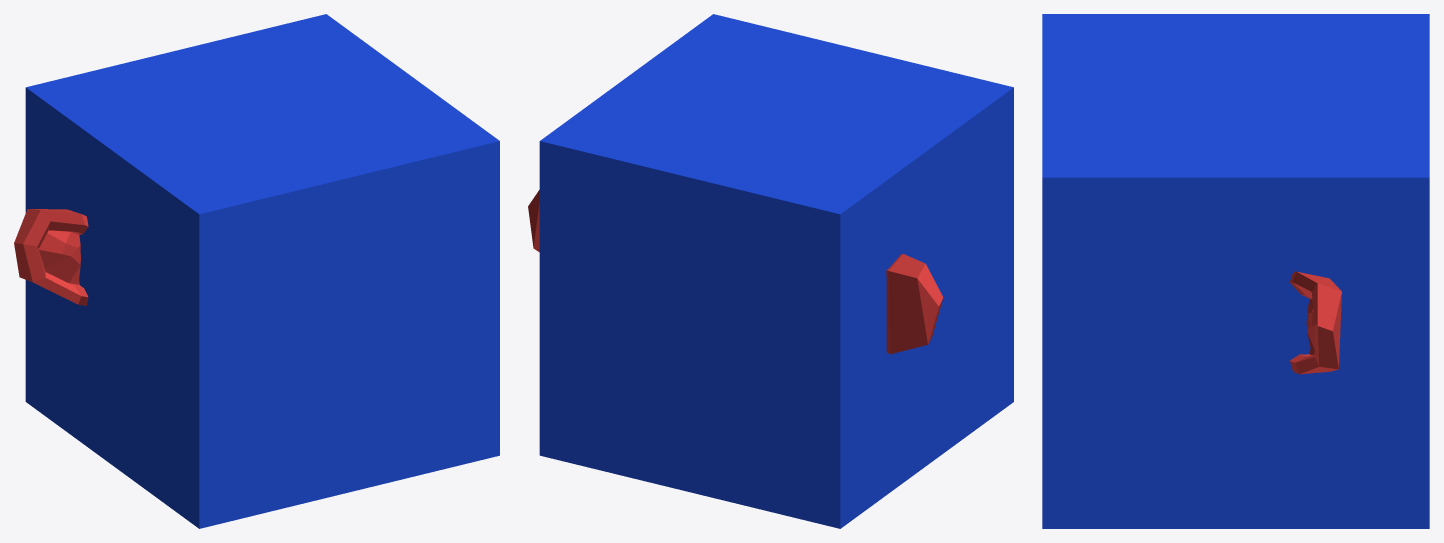
The model's file is sample.glb.
3 renders of one model, left to right at view 1: azimuth 30°, elevation 25°; view 2: azimuth 150°, elevation 25°; view 3: azimuth 270°, elevation 25°, orthographic. The views are drawn at different scales.
Parts seen in each view (by area): view 1: Cube, Suzanne; view 2: Cube, Suzanne; view 3: Cube, Suzanne.
Part boxes in pixels (<box>): Cube: <box>25,14,499,528</box>; Suzanne: <box>14,209,88,305</box>; Cube: <box>539,14,1013,528</box>; Suzanne: <box>528,190,943,354</box>; Cube: <box>1042,14,1429,528</box>; Suzanne: <box>1290,271,1341,374</box>.
Bounding box in the file's own units: 2.73 × 2 × 2.
